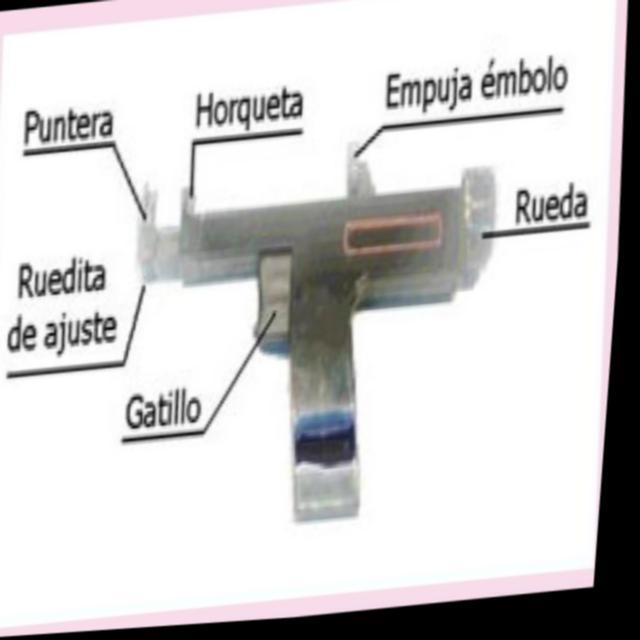weapon: (114, 129, 516, 546)
